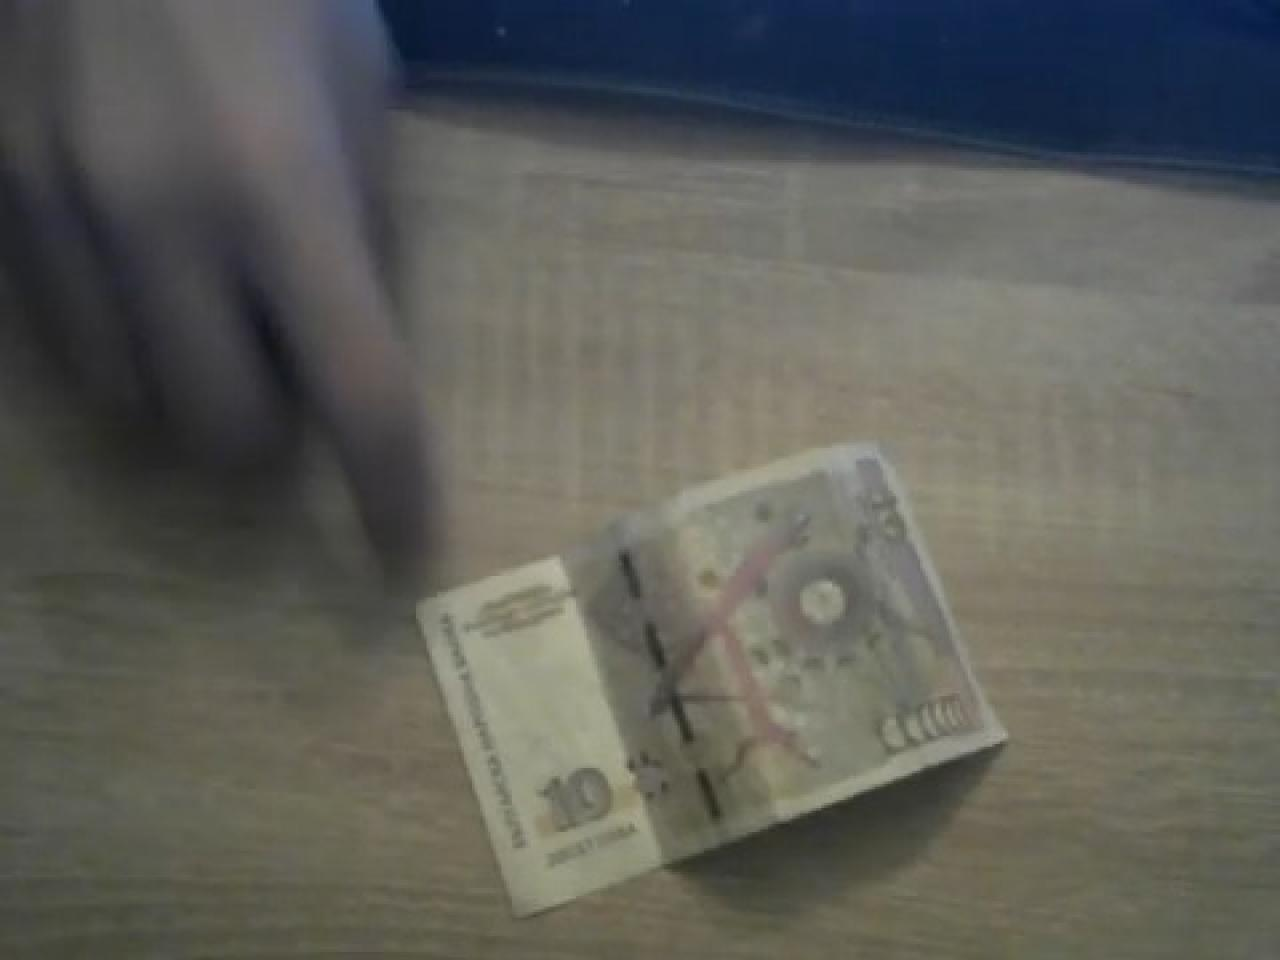10leva: (416, 443, 1008, 920)
